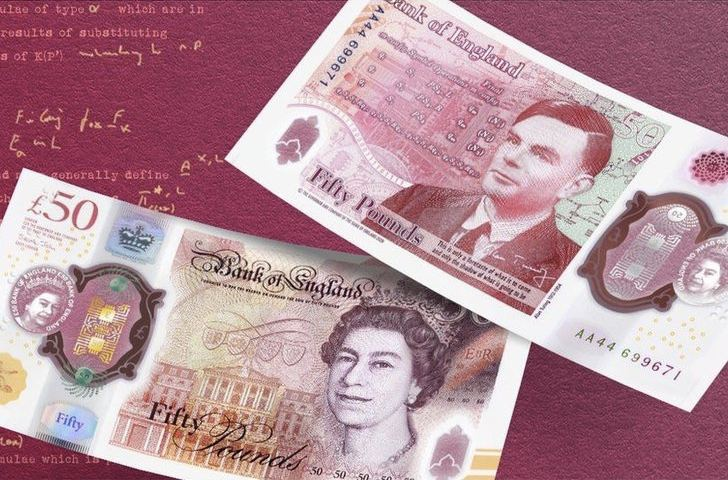cash: (225, 1, 728, 413), (1, 169, 534, 480)
